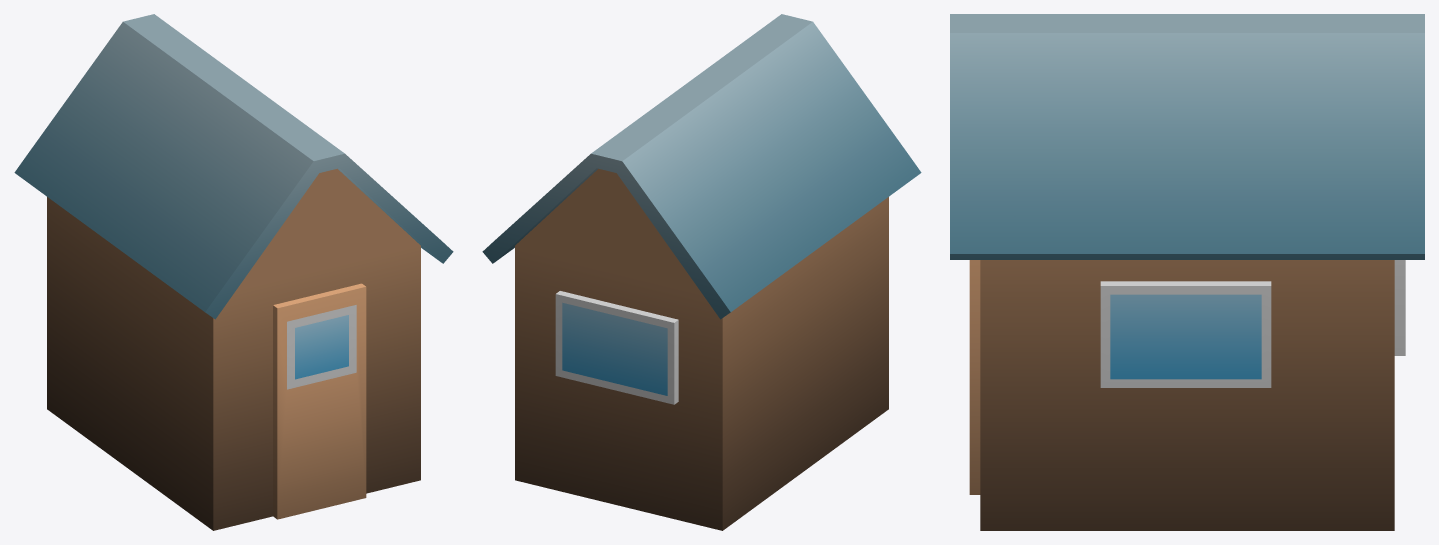
File: barn.fbx
3 views of the same model, side by side, from view 1: azimuth 30°, elevation 25°; view 2: azimuth 150°, elevation 25°; view 3: azimuth 270°, elevation 25° (orthographic). The views are drawn at different scales.
Visible parts, largest first — view 1: barn; view 2: barn; view 3: barn.
Boxes of the visible parts, bbox=[...] form: barn: bbox=[14, 14, 453, 530]; barn: bbox=[482, 14, 921, 530]; barn: bbox=[950, 14, 1424, 530].
Bounding box in the file's own units: 256 × 352 × 341.
Materials: 1 (1 with a texture image).
